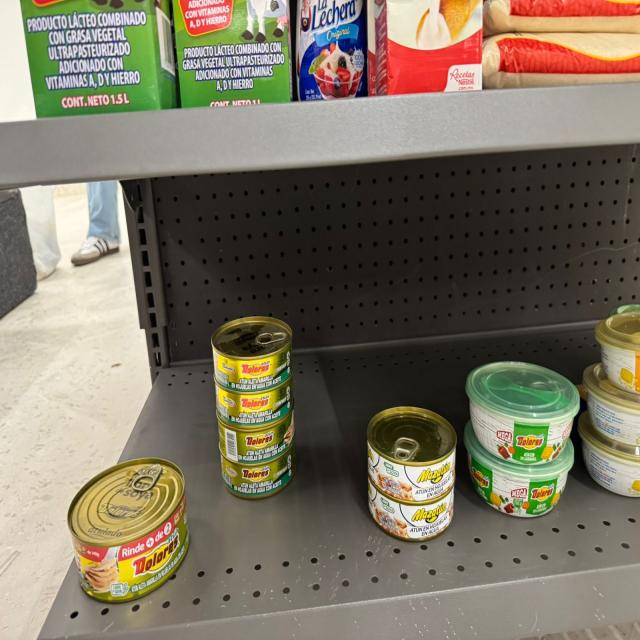ATUN DOLORES EN ACEITE 130GRS: (211, 317, 292, 392), (217, 399, 294, 465), (214, 371, 294, 428), (221, 439, 296, 499)
Atun Dolores aceite 295gr lata: (68, 458, 189, 602)
Atun Mazatun Agua Sin Soya 130grs: (368, 407, 457, 501), (368, 474, 454, 542)
Azucar Estandar La Posada 1 kg: (482, 33, 640, 89), (483, 0, 640, 36)
CARNATION Leche Evaporada 720g: (373, 0, 482, 96), (368, 0, 376, 97)
DOLORES ENSALADA CON VERDURAS MAXI CUP CAN 240gr: (466, 361, 580, 465), (464, 421, 574, 516)
Dolores SURFY Cup Can Elotitos 24135 gr: (578, 411, 640, 497), (583, 363, 640, 452), (595, 303, 640, 393)
La Lechera Sirve Facil 335gr Bote: (297, 0, 366, 100)
PLC NUTRALAT FORTE 1 LT: (173, 0, 290, 106)
PLC NUTRALAT FORTE 1.5 LT: (20, 0, 176, 117)
